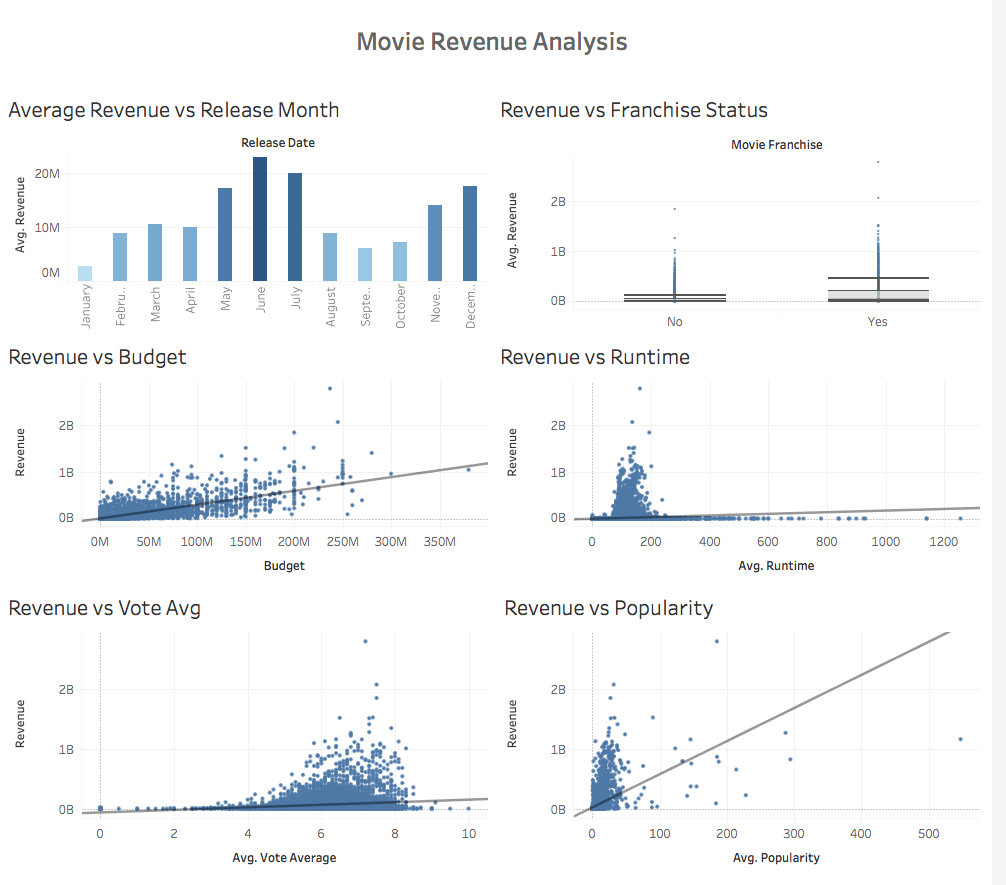

The page's visual inventory and layout, read from the dashboard file:
{"tool":"tableau","page":{"name":"Revenue Analysis","canvas":[1000,900],"ordinal":0},"visuals":[{"type":"text","box":[8,8,984,94]},{"type":"worksheet","title":"Average Revenue vs Release Month","mark":"Bar","rows":["revenue"],"cols":["release_date"],"box":[8,102,492,246.5]},{"type":"worksheet","title":"Revenue vs Franchise Status ","mark":"Circle","rows":["revenue"],"cols":["belongs_to_collection"],"box":[500,102,492,246.5]},{"type":"worksheet","title":"Revenue vs Budget","mark":"Automatic","rows":["revenue"],"cols":["budget"],"box":[8,348.5,492,251.4]},{"type":"worksheet","title":"Revenue vs Runtime","mark":"Automatic","rows":["revenue"],"cols":["runtime"],"box":[500,348.5,492,251.4]},{"type":"worksheet","title":"Revenue vs Vote Avg","mark":"Shape","rows":["revenue"],"cols":["vote_average"],"box":[8,599.9,492,292]},{"type":"worksheet","title":" Revenue vs Popularity","mark":"Shape","rows":["revenue"],"cols":["popularity"],"box":[500,599.9,492,292]}]}

Visuals, with their boxes in screenshot pixels (x1, y1, x2, y2), scaled from the page's 1000x900 canvas onto the 1006x885 screenshot:
text: select_region(8, 8, 998, 100)
"Average Revenue vs Release Month" worksheet (Bar marks): select_region(8, 100, 503, 343)
"Revenue vs Franchise Status " worksheet (Circle marks): select_region(503, 100, 998, 343)
"Revenue vs Budget" worksheet: select_region(8, 343, 503, 590)
"Revenue vs Runtime" worksheet: select_region(503, 343, 998, 590)
"Revenue vs Vote Avg" worksheet (Shape marks): select_region(8, 590, 503, 877)
" Revenue vs Popularity" worksheet (Shape marks): select_region(503, 590, 998, 877)
